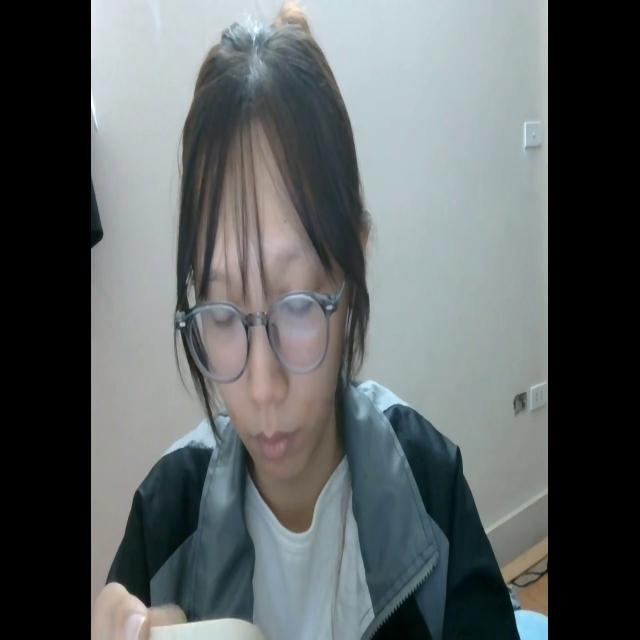student: (96, 3, 520, 640)
